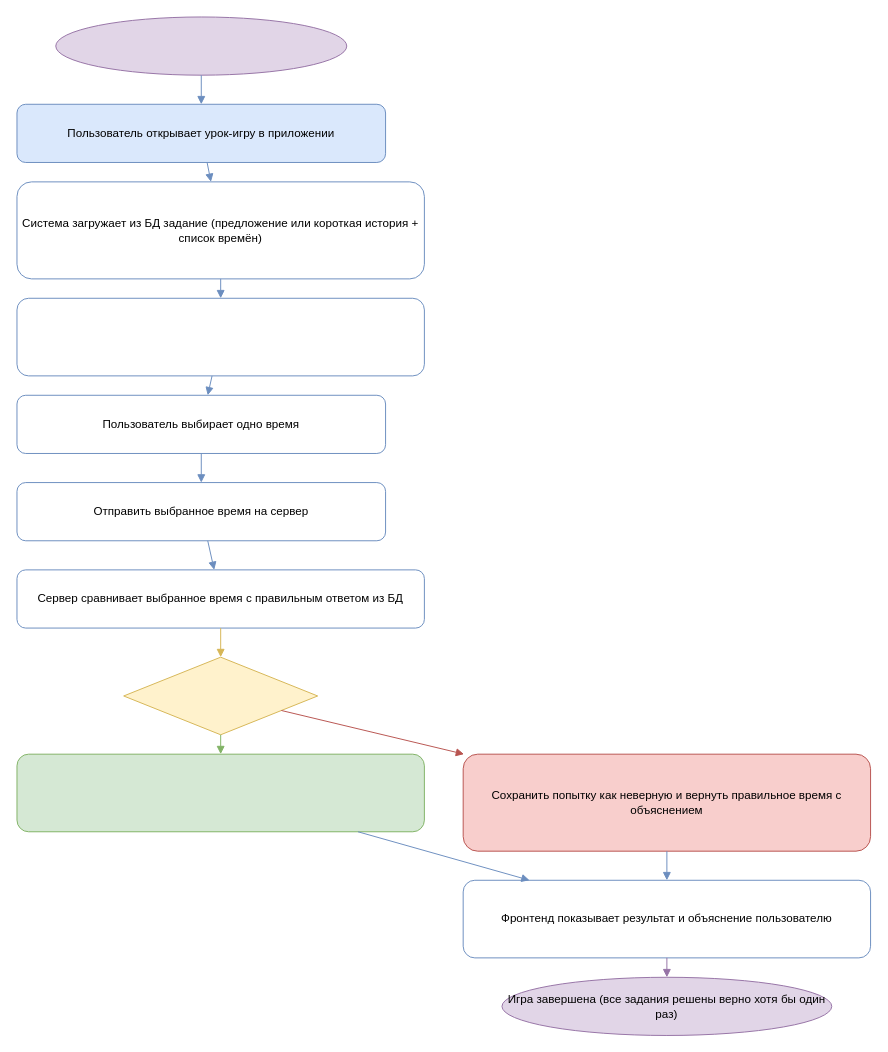
This 888x1052 diagram has some shape labels left out. Here are the shapes that lost their labels. From the top down, the box of each, then its label:
(55, 16, 347, 75): Старт игры "Угадай время"
(16, 297, 424, 376): Отобразить текст задания и варианты времён (Present, Past, Future и т.п.)
(123, 656, 318, 735): Время выбрано верно?
(16, 753, 424, 832): Начислить баллы и обновить прогресс урока (если это первая правильная попытка)
